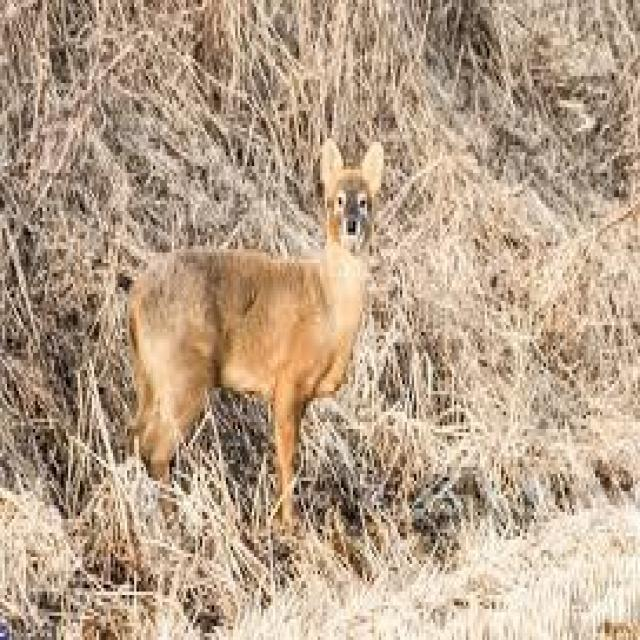elk: (71, 88, 444, 572)
